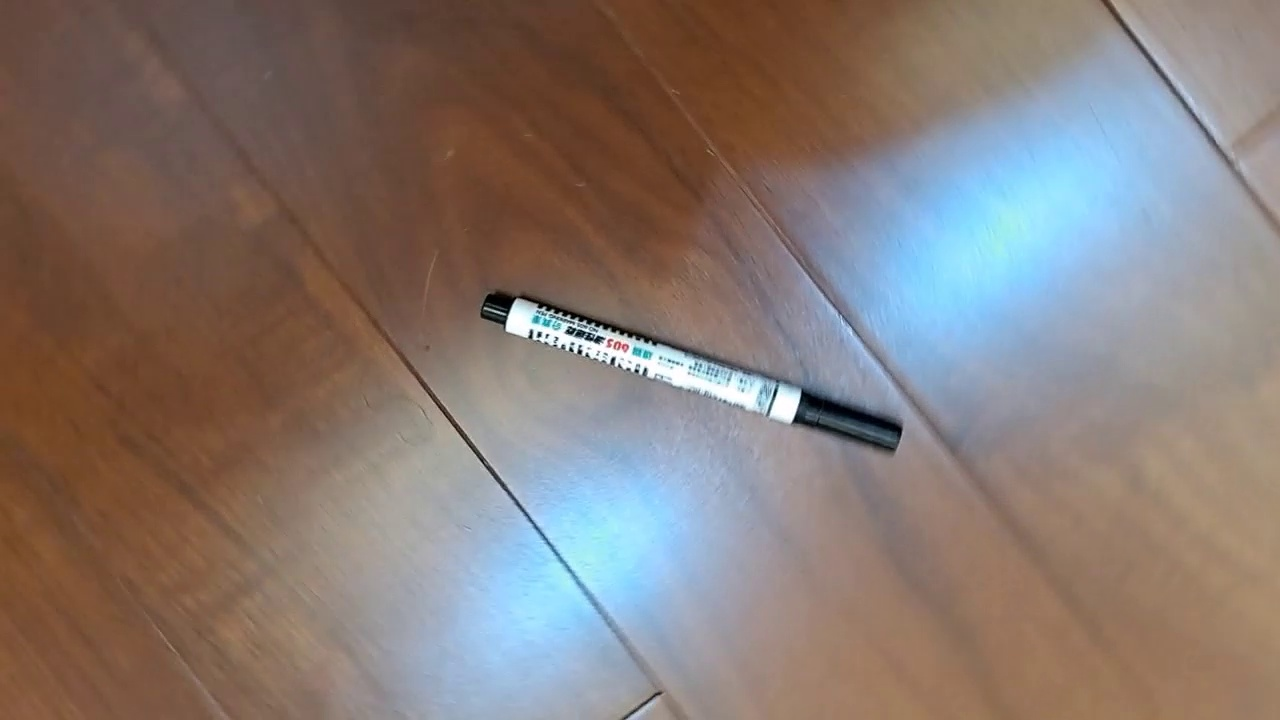pen: (480, 289, 904, 457)
